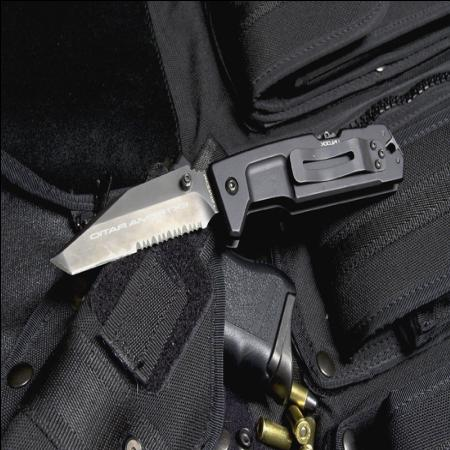long weapon: (35, 154, 225, 280)
